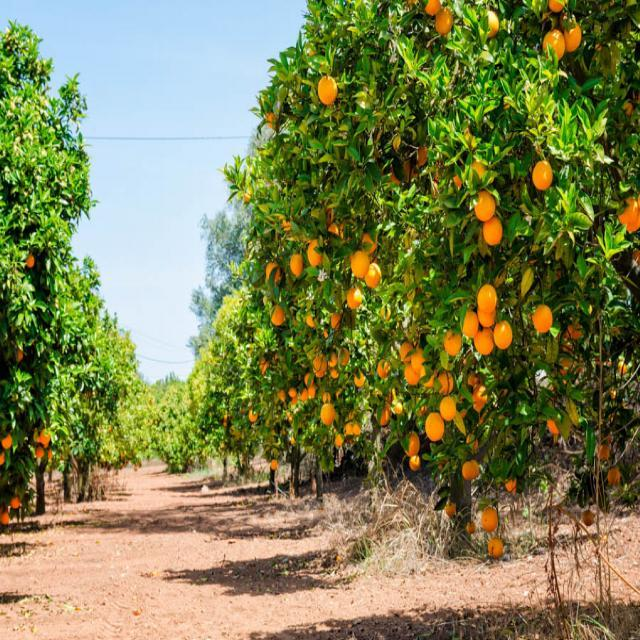Jeruk Sudah Matang: (615, 196, 640, 233), (542, 27, 566, 64), (471, 189, 496, 223), (530, 158, 554, 192), (472, 324, 496, 358), (315, 75, 339, 106), (562, 22, 584, 54), (433, 8, 457, 36), (481, 217, 504, 246), (350, 249, 370, 279), (424, 412, 444, 442), (476, 284, 496, 312), (532, 304, 552, 332), (306, 238, 324, 269), (492, 322, 512, 349), (443, 330, 462, 358), (484, 10, 501, 41), (401, 430, 422, 454), (402, 364, 423, 387), (438, 394, 456, 420), (461, 309, 478, 336), (482, 506, 499, 532), (364, 262, 382, 286), (437, 368, 455, 392), (411, 348, 428, 372), (288, 253, 304, 278), (269, 304, 286, 326), (346, 288, 364, 308), (462, 460, 480, 480), (421, 0, 444, 15), (264, 260, 280, 281), (321, 404, 336, 424), (399, 340, 414, 360), (378, 358, 391, 381), (607, 466, 621, 486), (331, 312, 344, 330), (409, 454, 422, 472), (340, 346, 350, 366), (304, 372, 314, 388), (352, 420, 360, 436), (300, 388, 308, 402)
